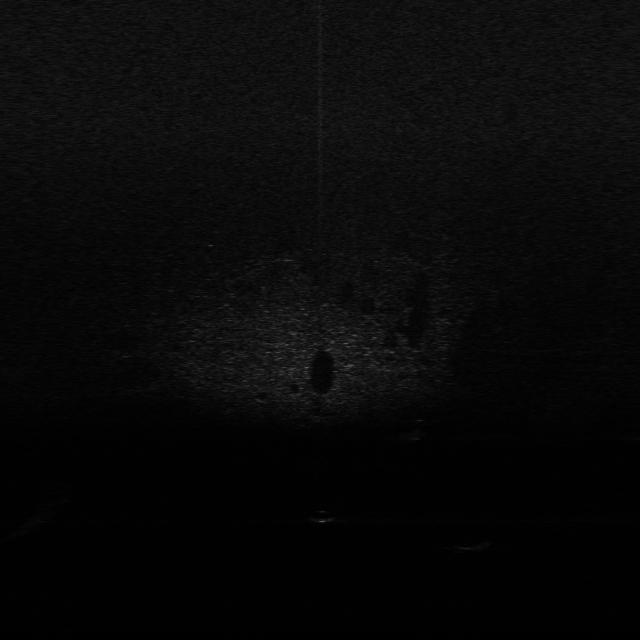ball: (302, 508, 337, 525)
square cage: (454, 538, 498, 553)
tyre: (404, 415, 432, 441)
